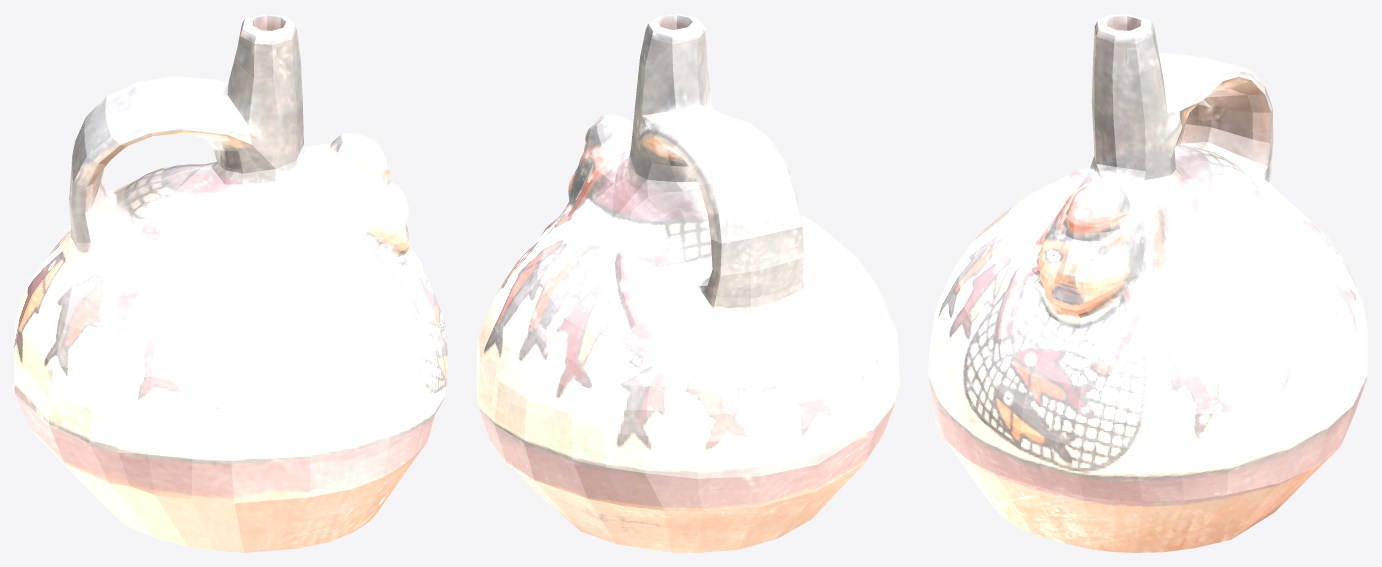
File: objeto_14_nasca.glb
The picture shows the model from 3 angles, left to right: view 1: azimuth 30°, elevation 25°; view 2: azimuth 150°, elevation 25°; view 3: azimuth 270°, elevation 25°; orthographic projection. The views are drawn at different scales.
Parts seen in each view (by area): view 1: Box001; view 2: Box001; view 3: Box001.
Boxes of the visible parts, left/top/right/bottom form: Box001: left=14, top=14, right=447, bottom=552; Box001: left=476, top=14, right=899, bottom=552; Box001: left=928, top=14, right=1367, bottom=552.
Size of the model in its own units: 120 by 142 by 118.
